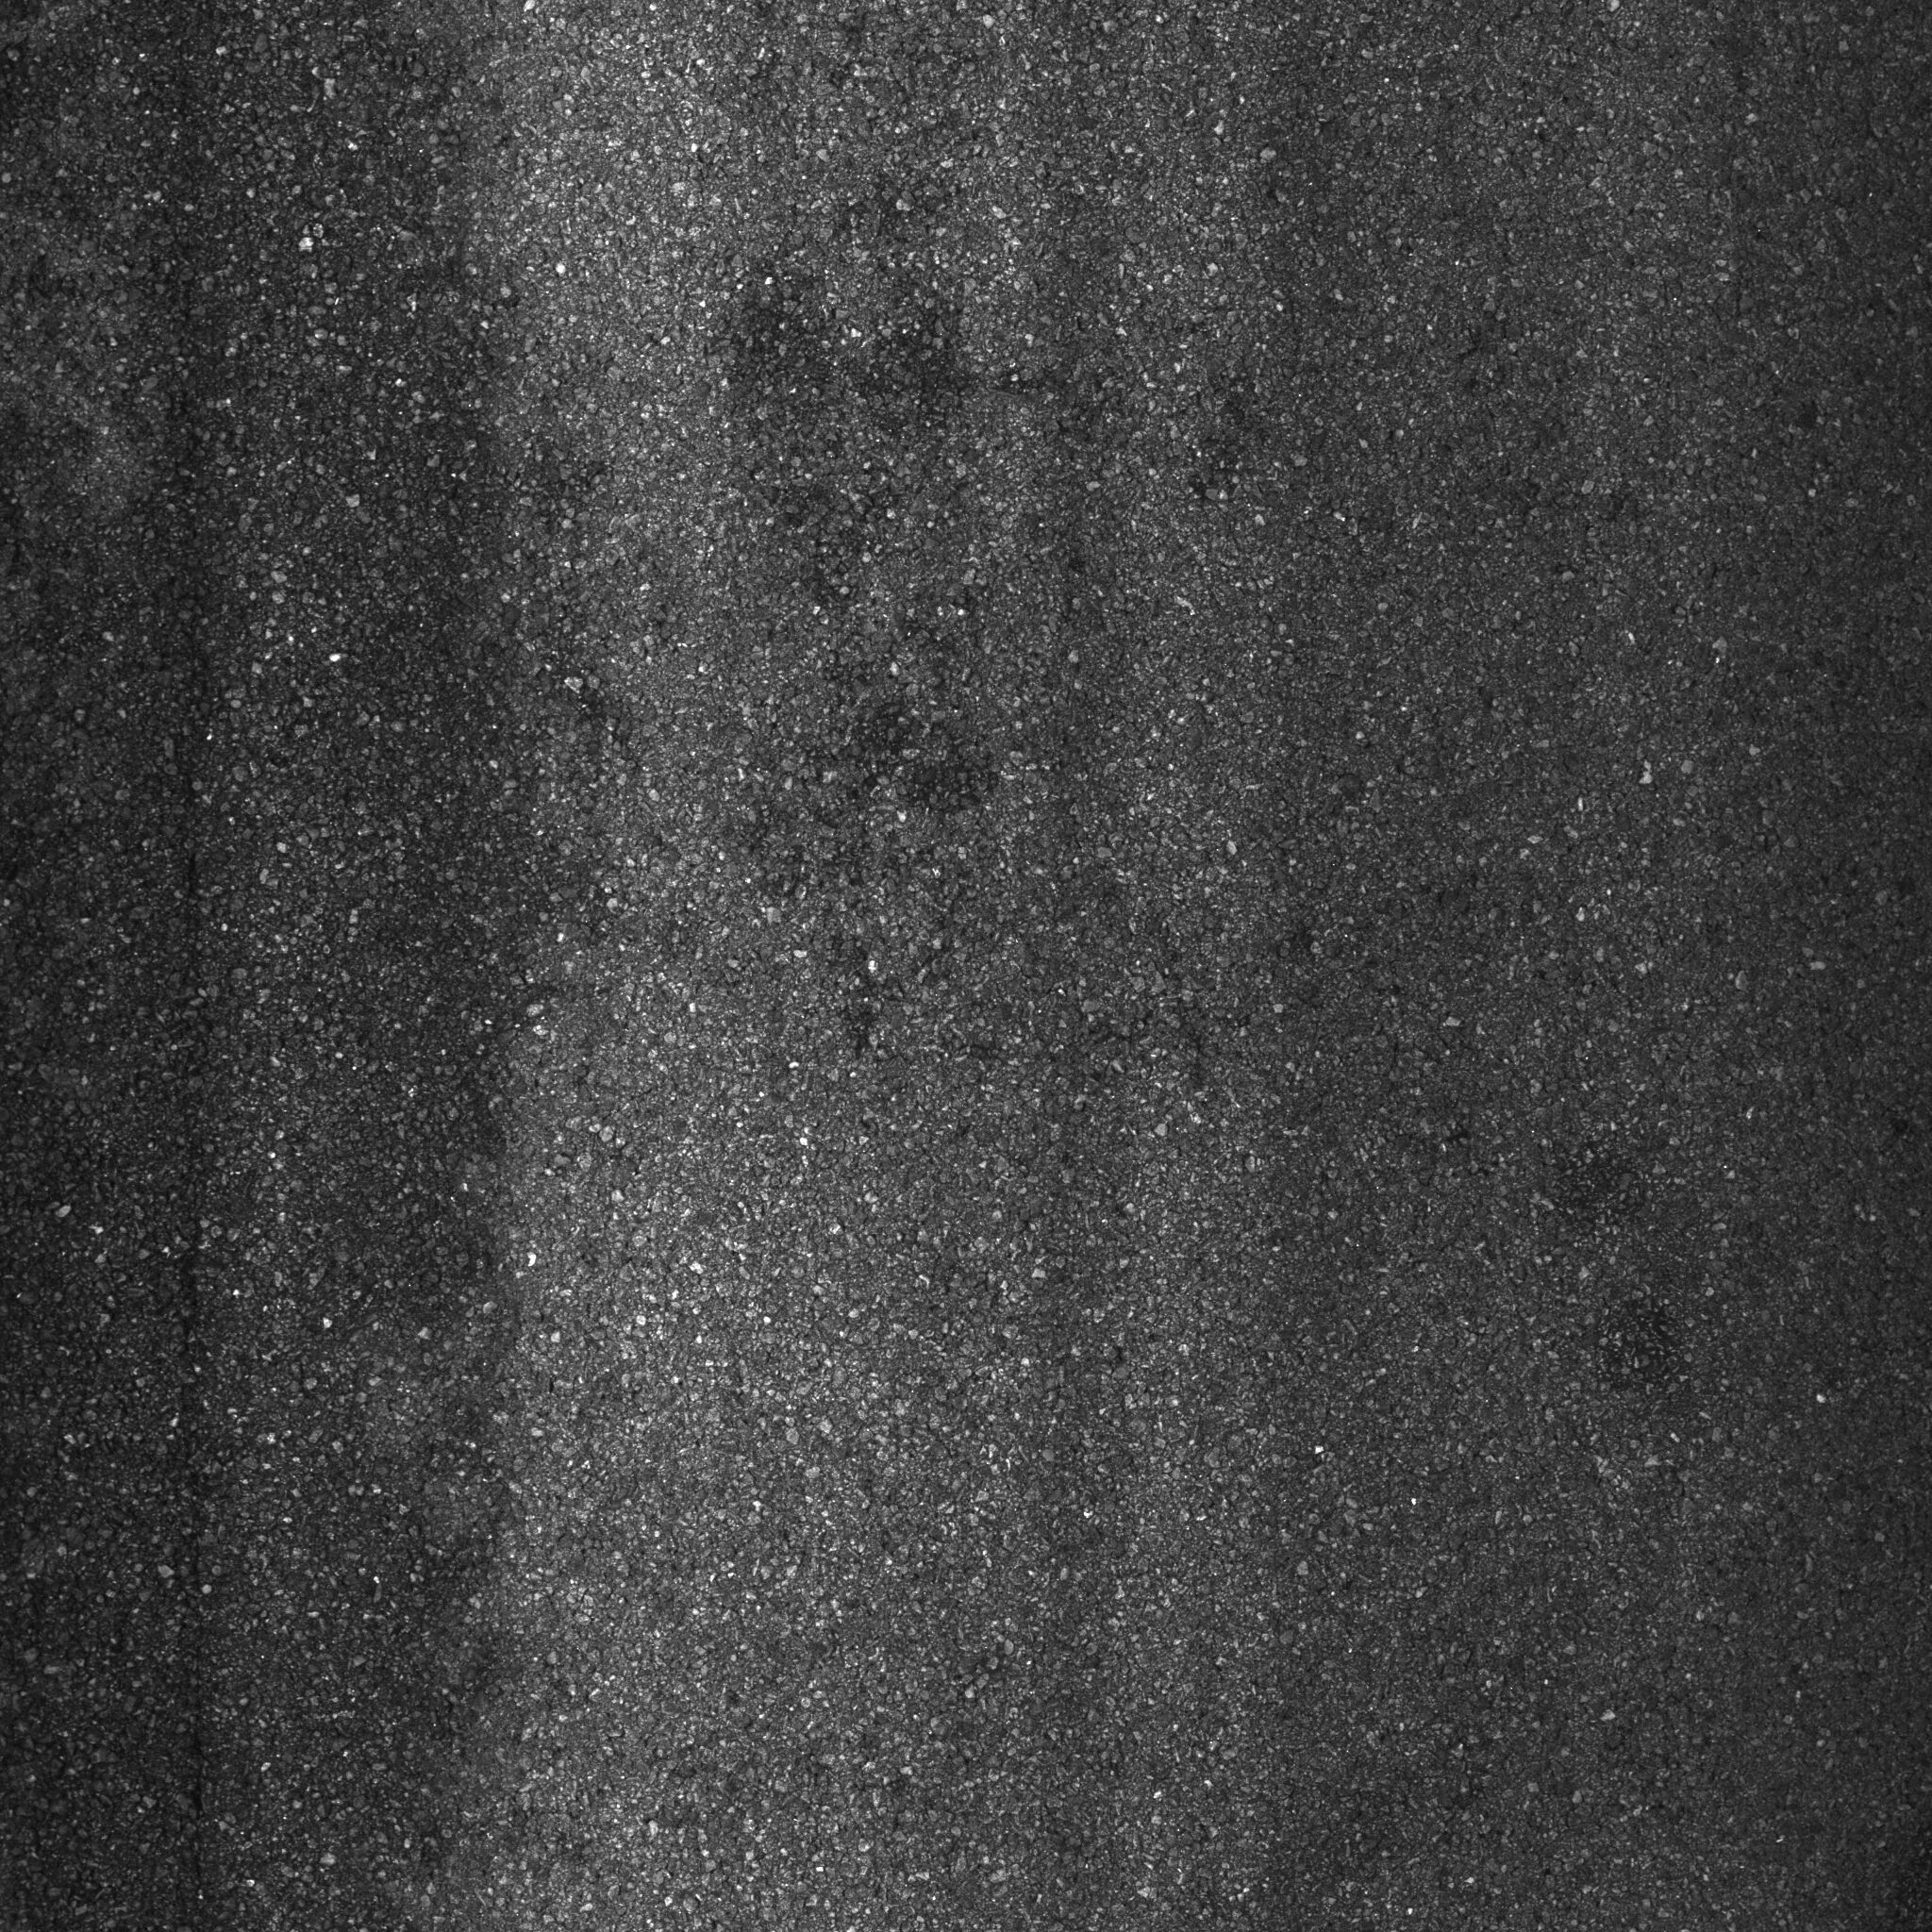longitudinal: (131, 527, 280, 1891)
